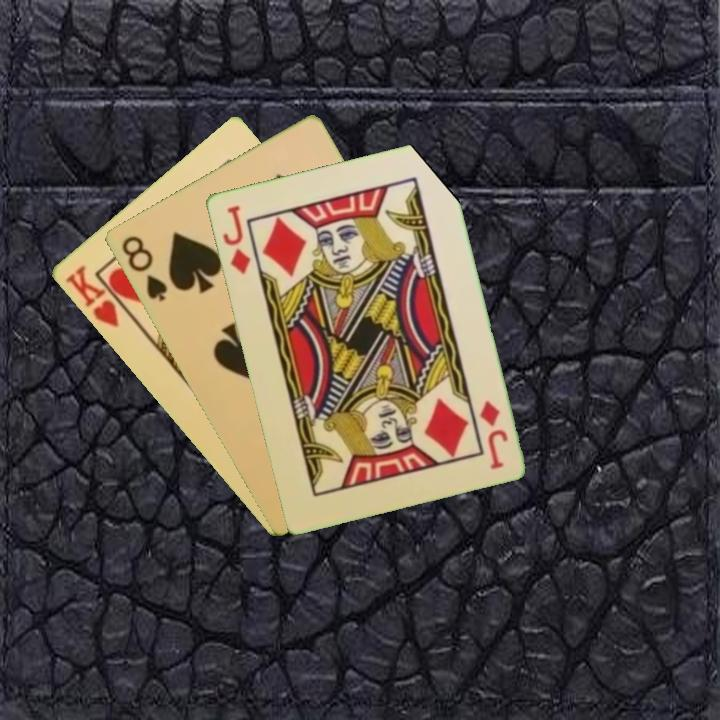8s: (117, 231, 170, 304)
Jd: (218, 201, 254, 278), (475, 396, 511, 472)
Kh: (60, 261, 135, 331)
